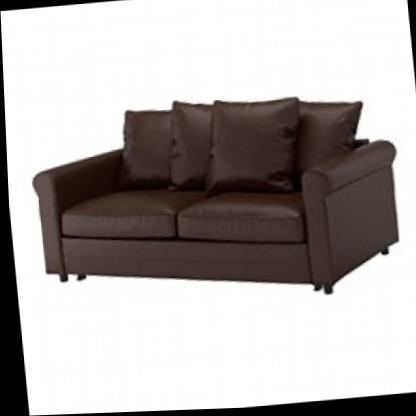Sofa: (14, 55, 411, 329)
